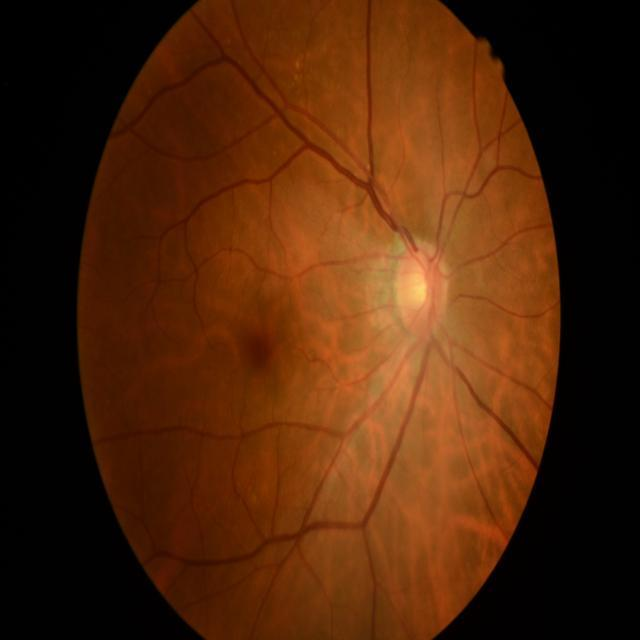cup: (408, 253, 429, 318)
disk: (395, 241, 448, 329)
